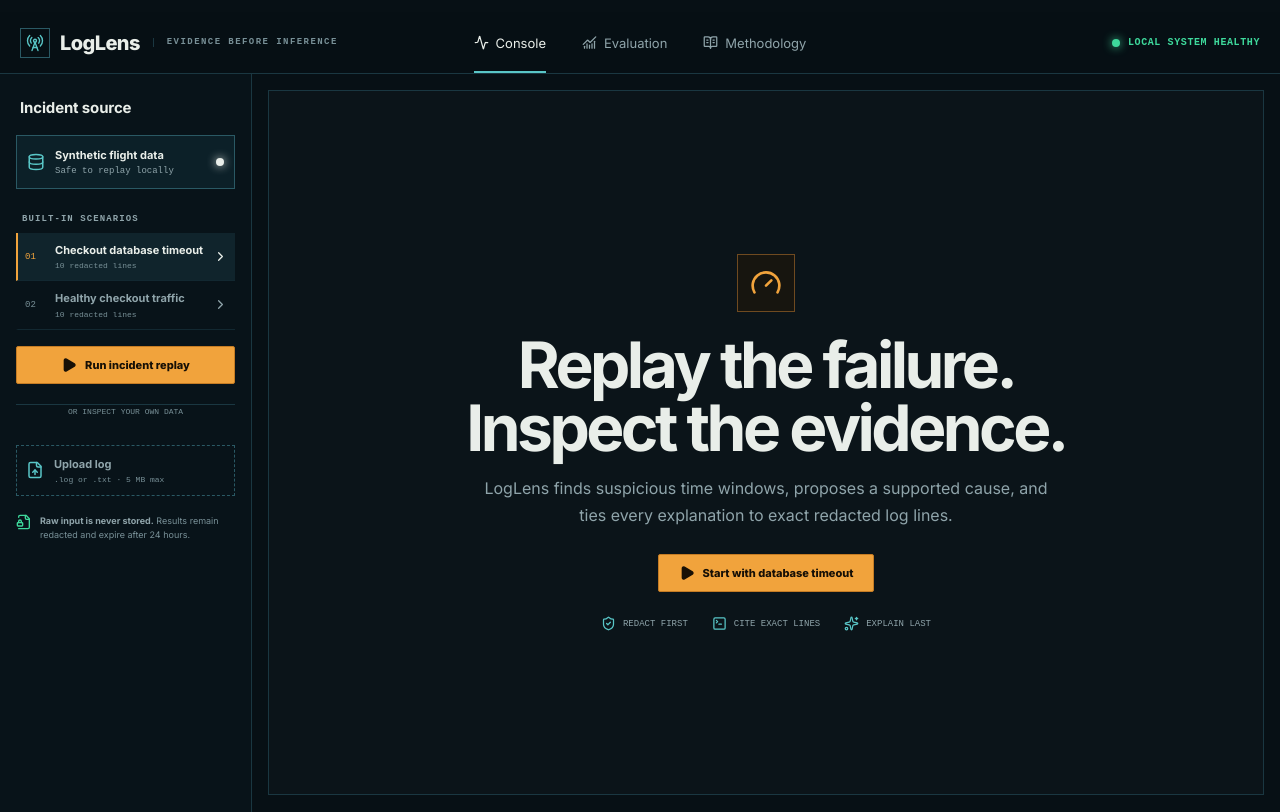
Test: LogLens console › supports arrow-key replay across windows
Click the button "Run incident replay" at (126, 365), box [16,346,235,384]
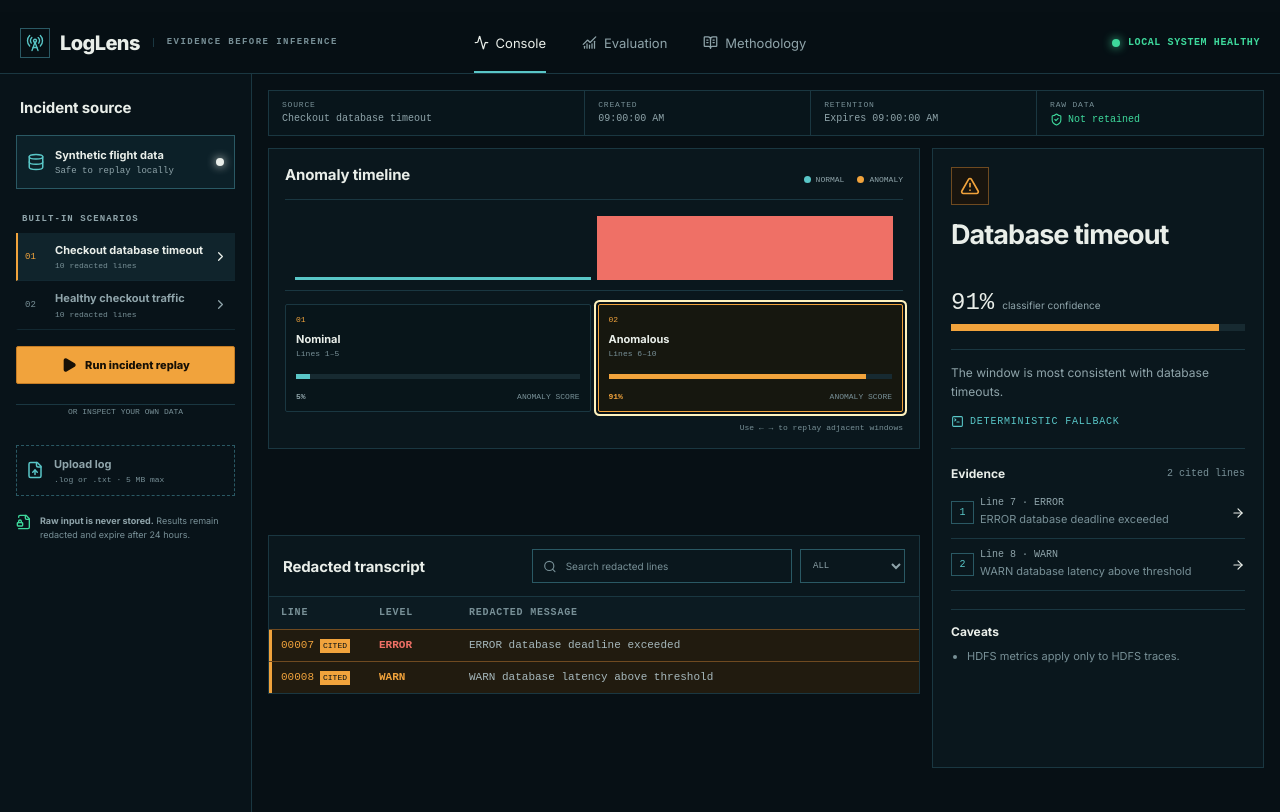
Press Arrowleft
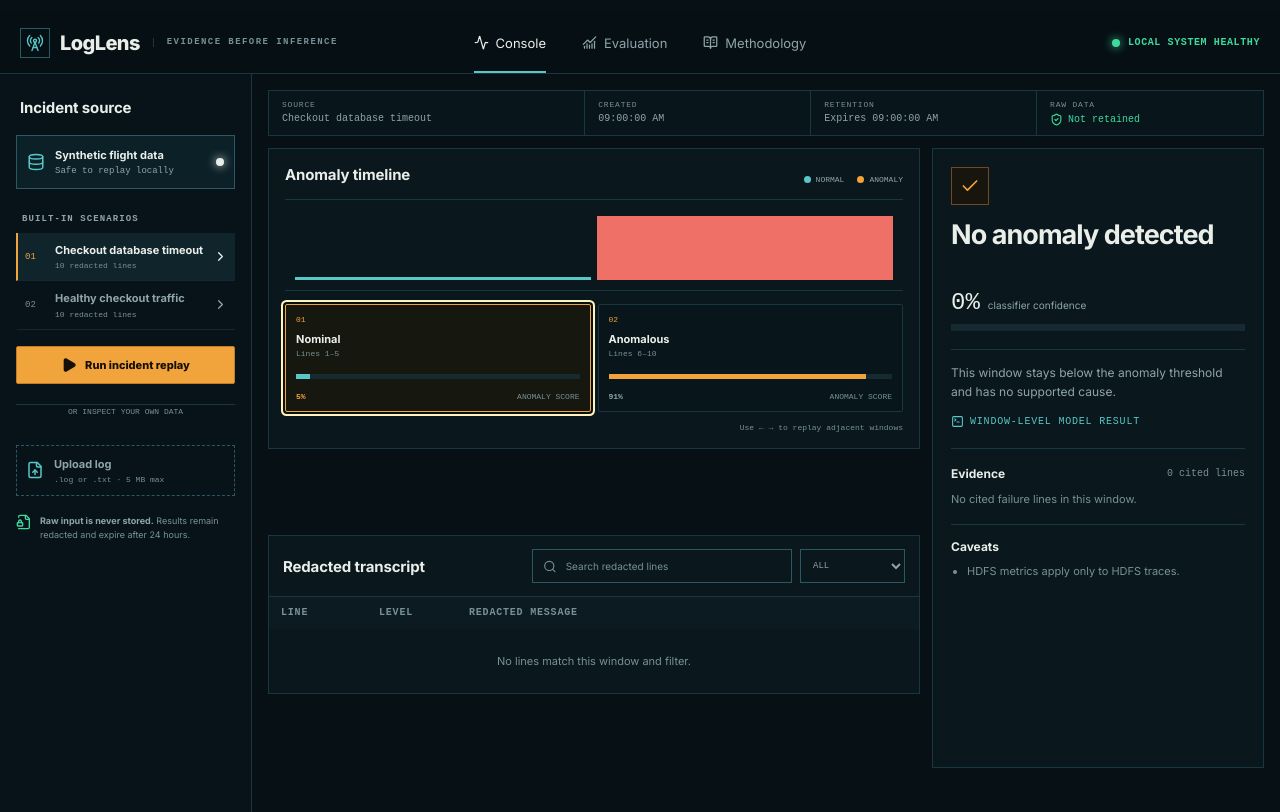
Check: the heading "No anomaly detected" is shown, box [951,218,1214,251]
Check: the text "stays below the anomaly threshold" is shown, box [951,365,1222,399]
Check: the text "most consistent with database timeouts" is gone
